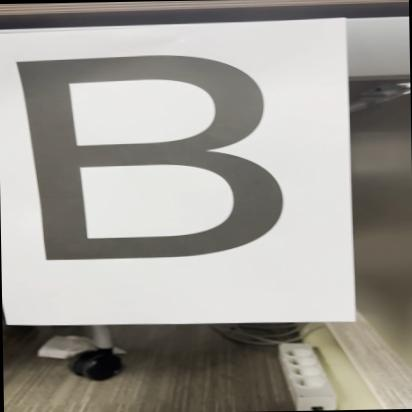seat: (2, 41, 310, 276)
